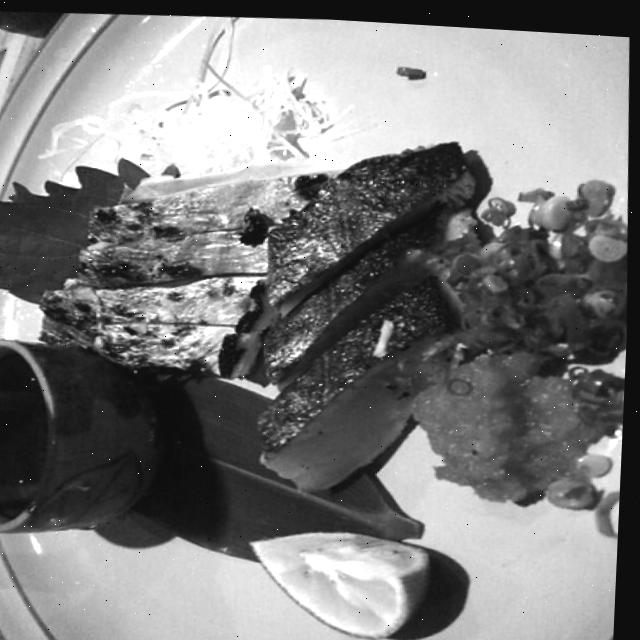熟制海鲜: (0, 51, 532, 520)
